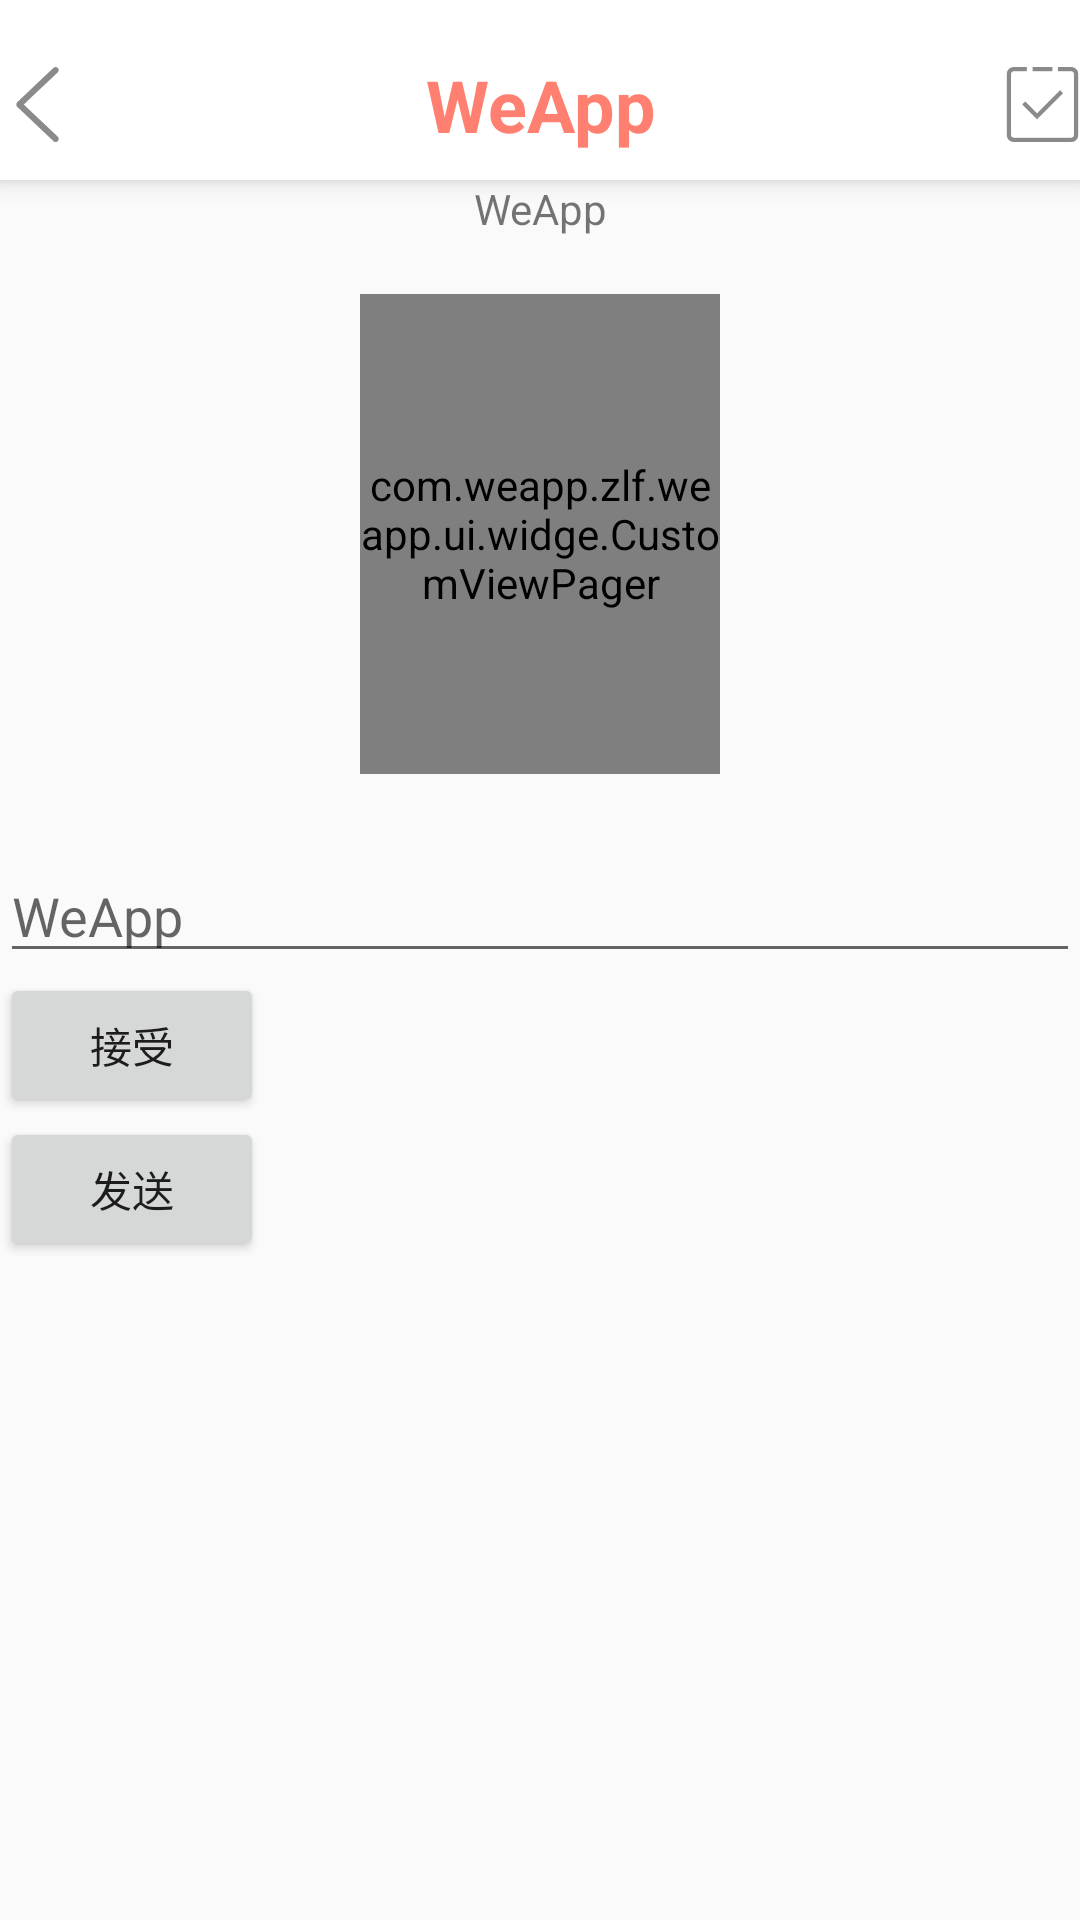

Icon bounding boxes for this 1080 x 1920 phone screenshot, format [x1,y1,x2,y2]:
arrow: [16,67,59,142]
submit: [1007,67,1078,142]
